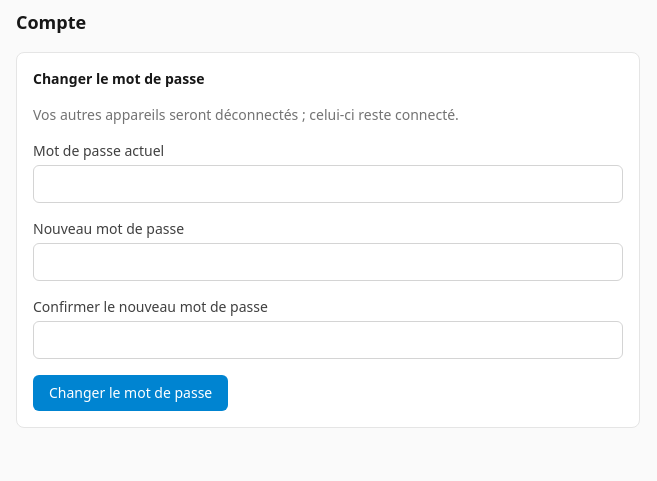
Scenario: <AccountPanel /> › ne contacte pas le serveur si la confirmation diffère
The width and height of the screenshot is (657, 481).
Type "old-password" into the password field labelled "Mot de passe actuel" at (328, 184), box [33,165,623,203]
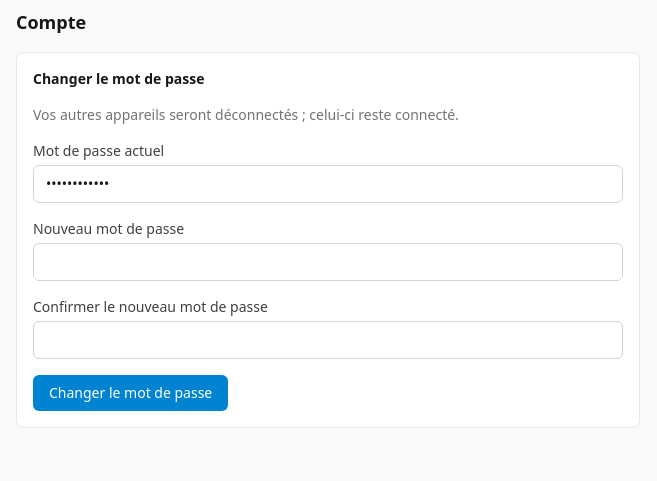
Type "new-password" into the password field labelled "Nouveau mot de passe" at (328, 262), box [33,243,623,281]
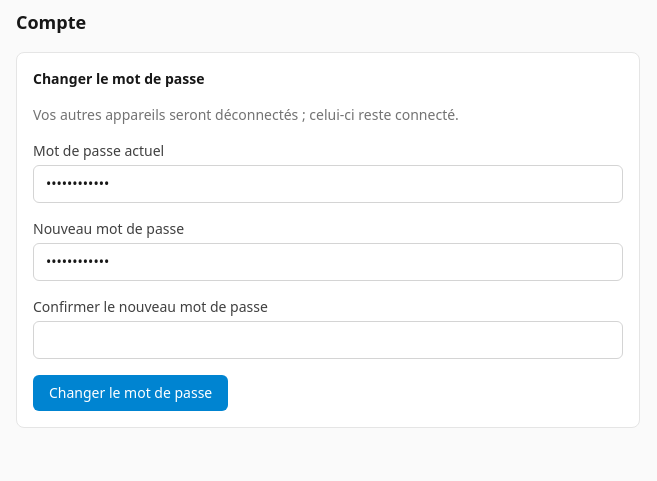
Type "typo-password" into the password field labelled "Confirmer le nouveau mot de passe" at (328, 340), box [33,321,623,359]
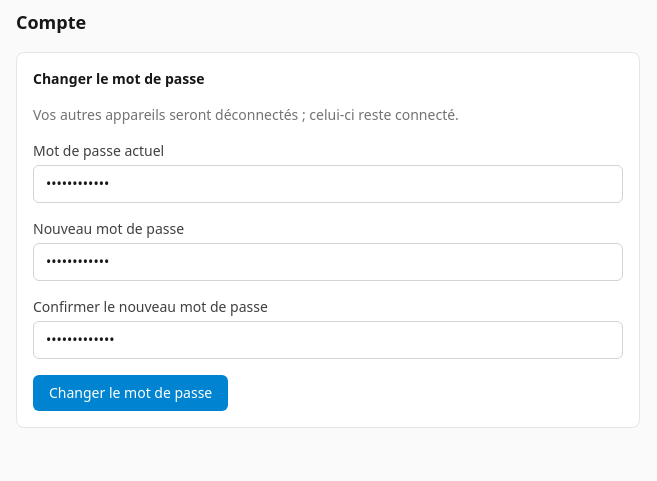
Click the button "Changer le mot de passe" at (131, 393), box [33,375,228,411]
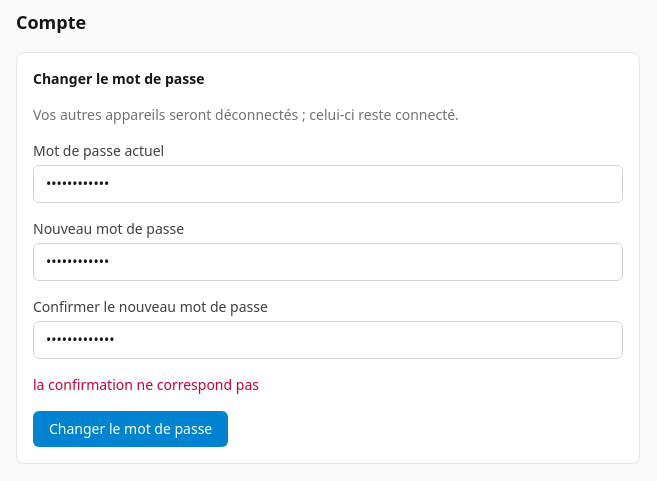
Expected: the message shows "confirmation", [33,375,259,394]
